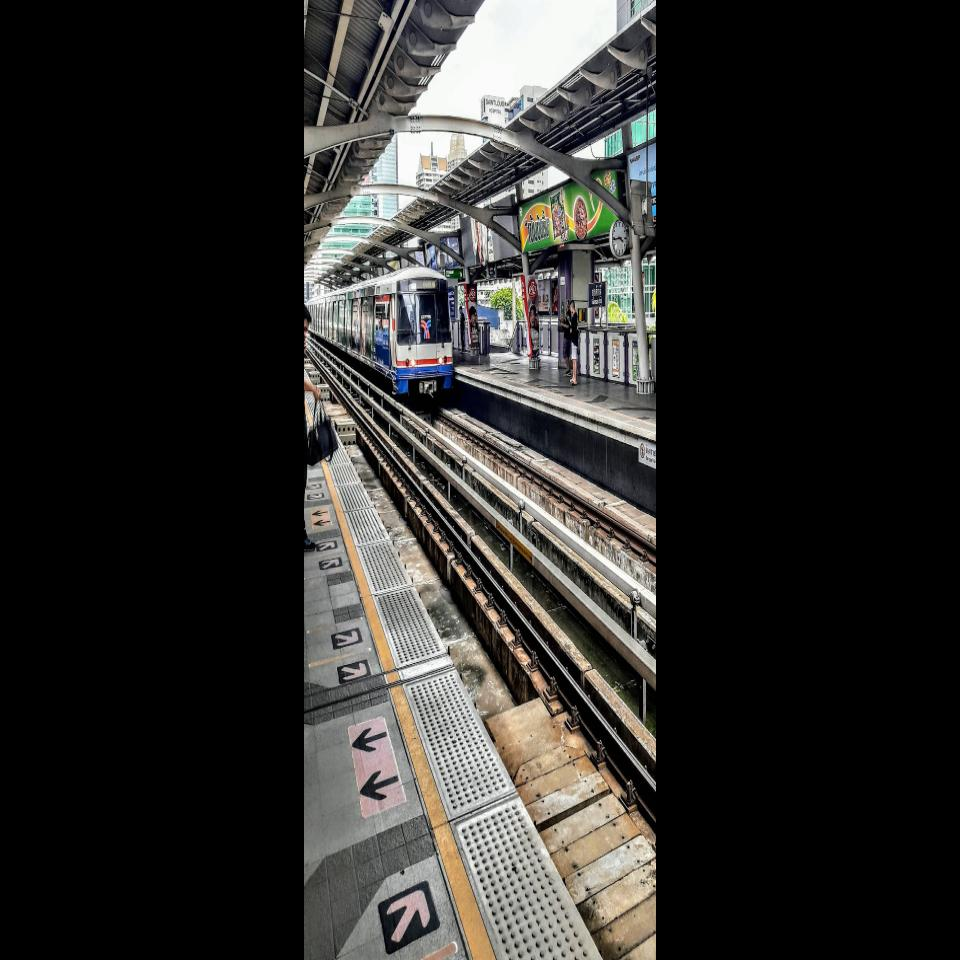signage: (588, 281, 606, 308)
